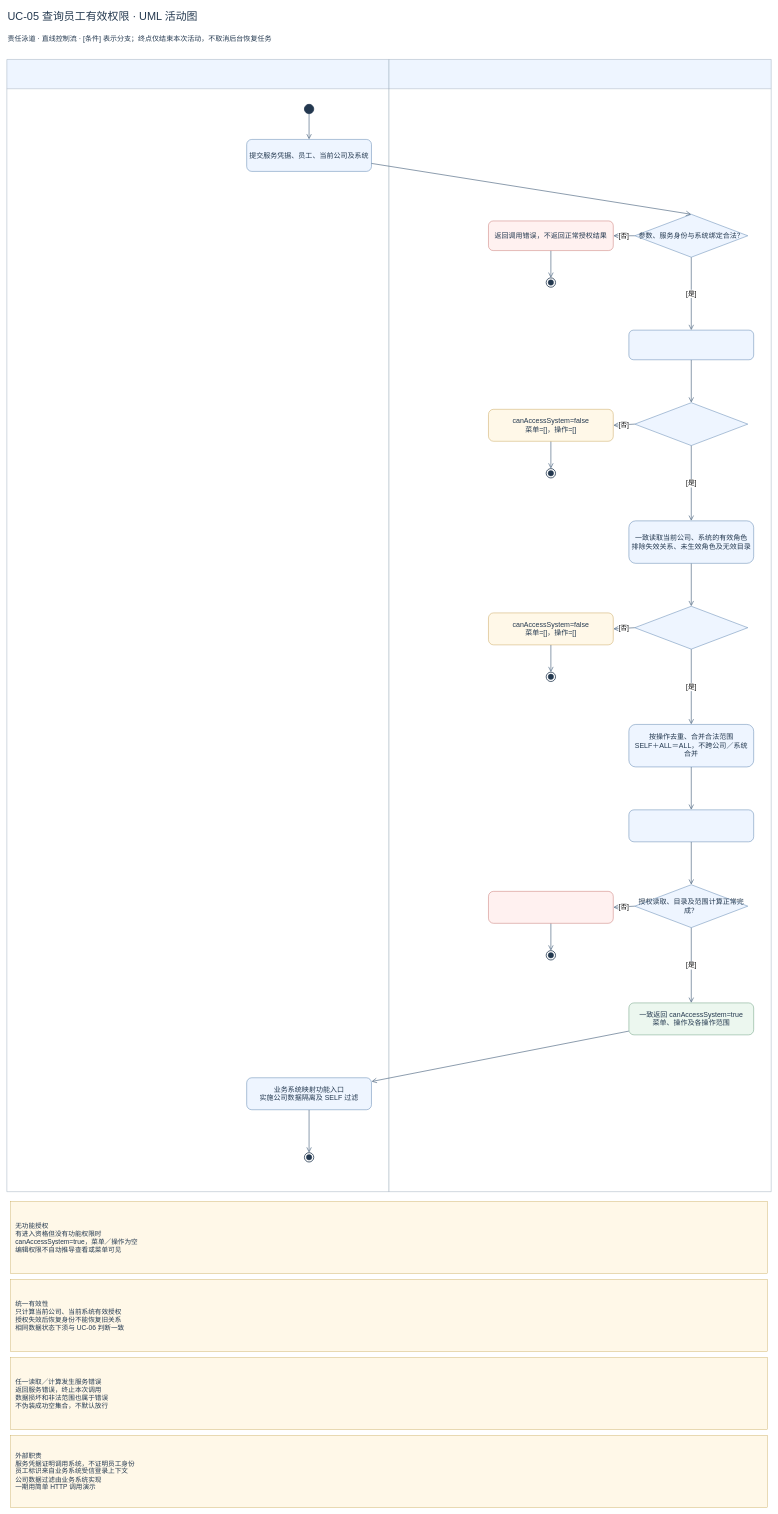
Image size: 778x1514. Some labels were removed from this diagram. Here are the shapes that lost their labels. From the top down, the box of each, then its label:
(628, 330, 754, 360): 读取员工、公司及当前任职状态
(634, 402, 748, 446): 员工／公司有效且有该公司有效任职？
(6, 59, 389, 1192): 受信业务系统后端
(389, 59, 771, 1192): 权限中心
(634, 606, 748, 649): 具备该公司、该系统进入资格？
(628, 809, 754, 842): 按对应查看／进入权限生成可见菜单 补充必要祖先，标记仅导航容器
(488, 891, 613, 923): 返回服务错误 不默认放行或假成功空结果
